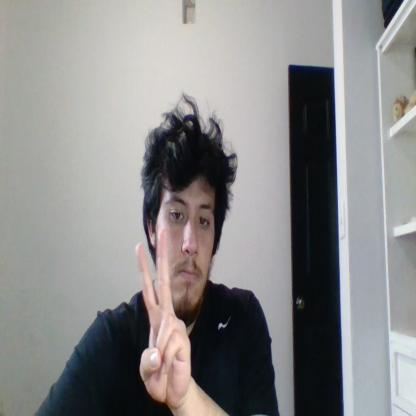V: (136, 228, 192, 402)
